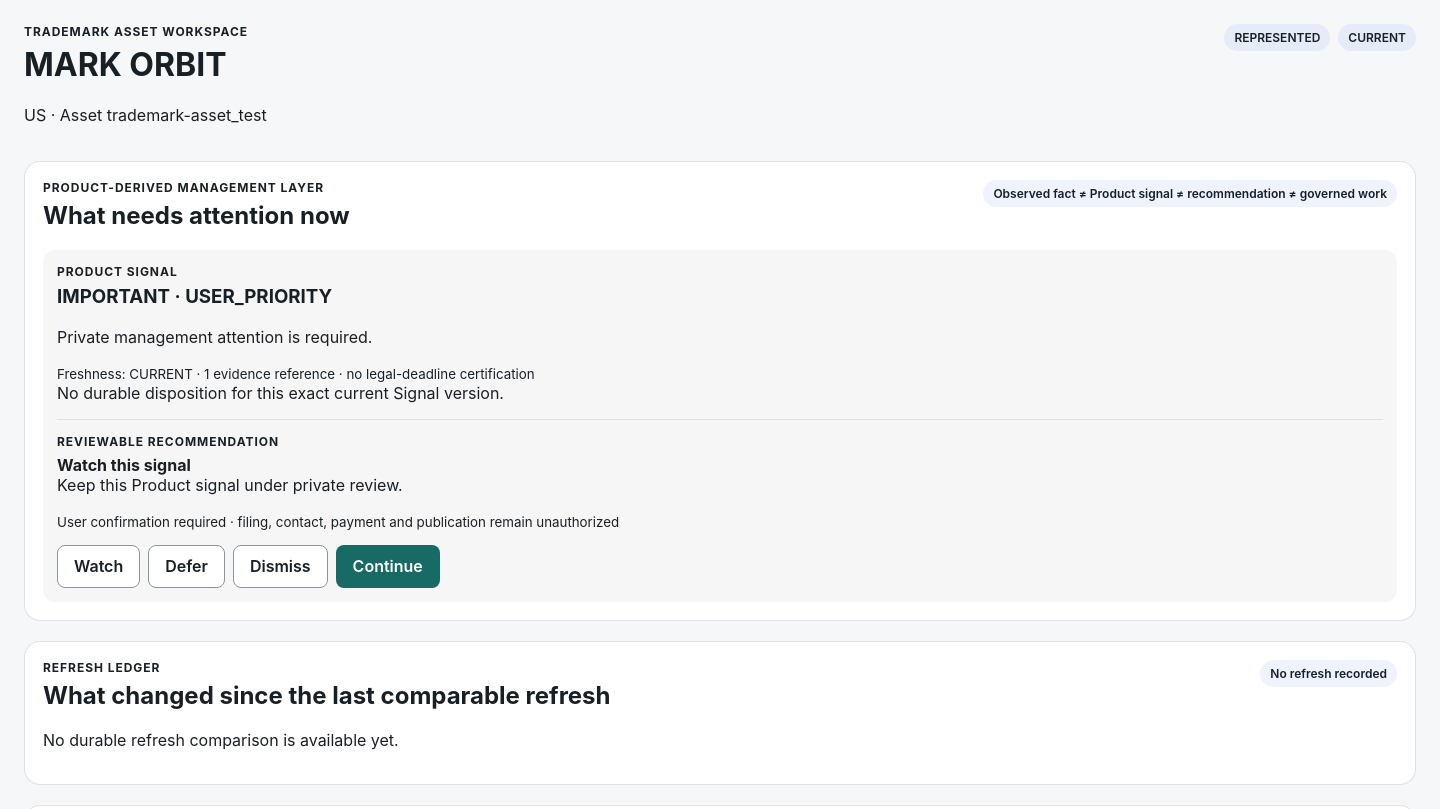
Scenario: TrademarkAssetWorkspace › does not continue until owner truth confirms CONTINUED
Click the button "Continue" at (388, 566), box [336, 545, 440, 588]
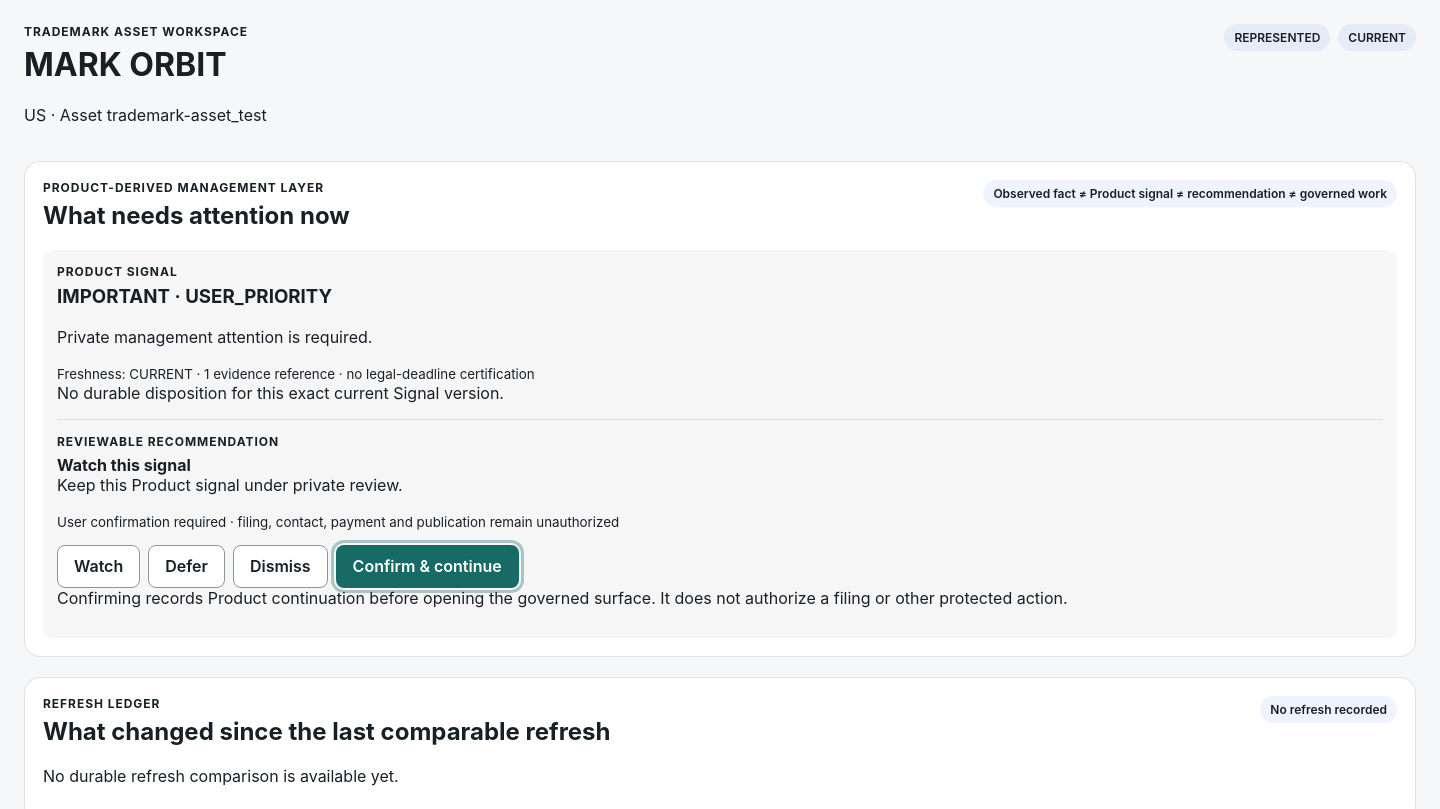
Click the button "Confirm & continue" at (427, 566), box [336, 545, 519, 588]
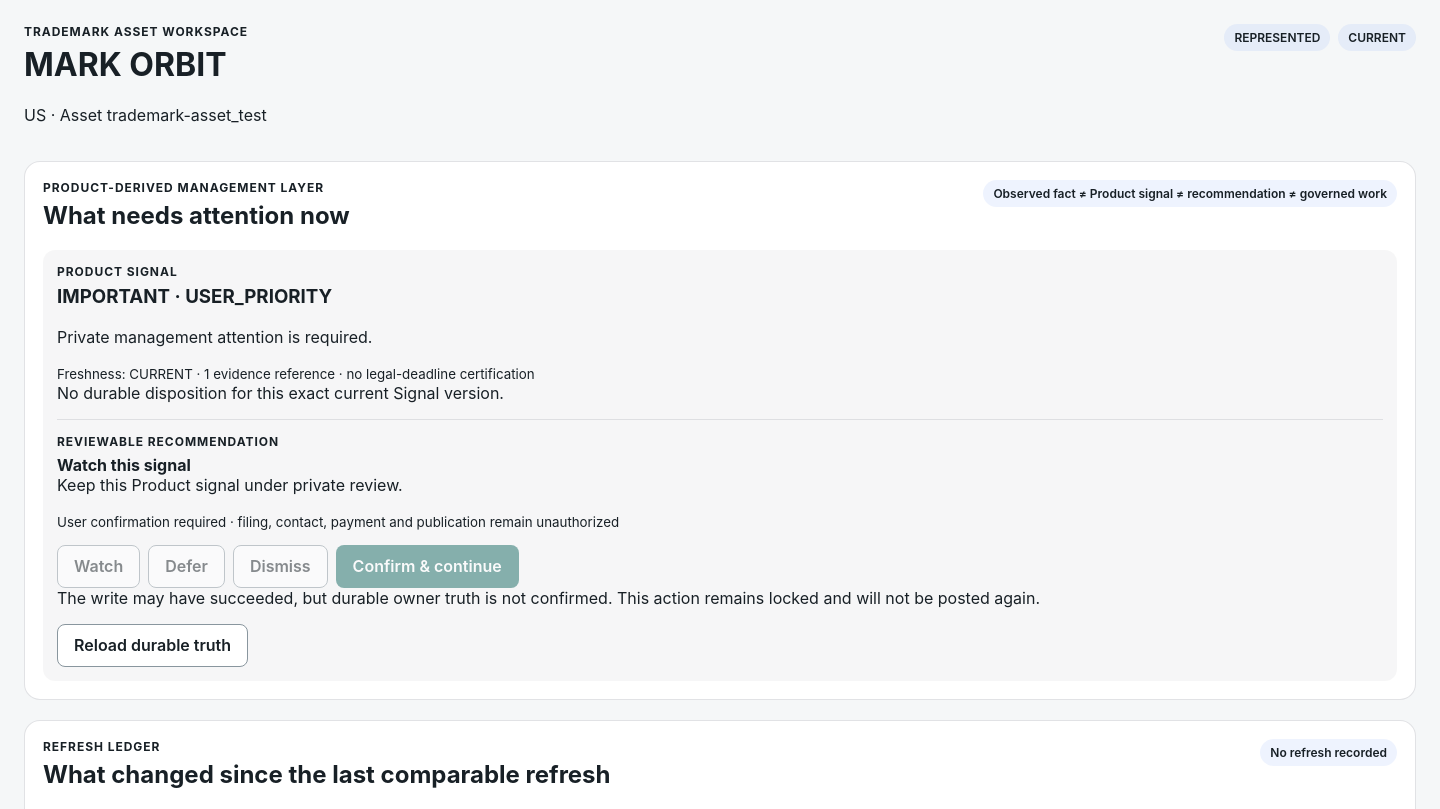
Result: the text "action remains locked" is shown at [57, 588, 1040, 608]
